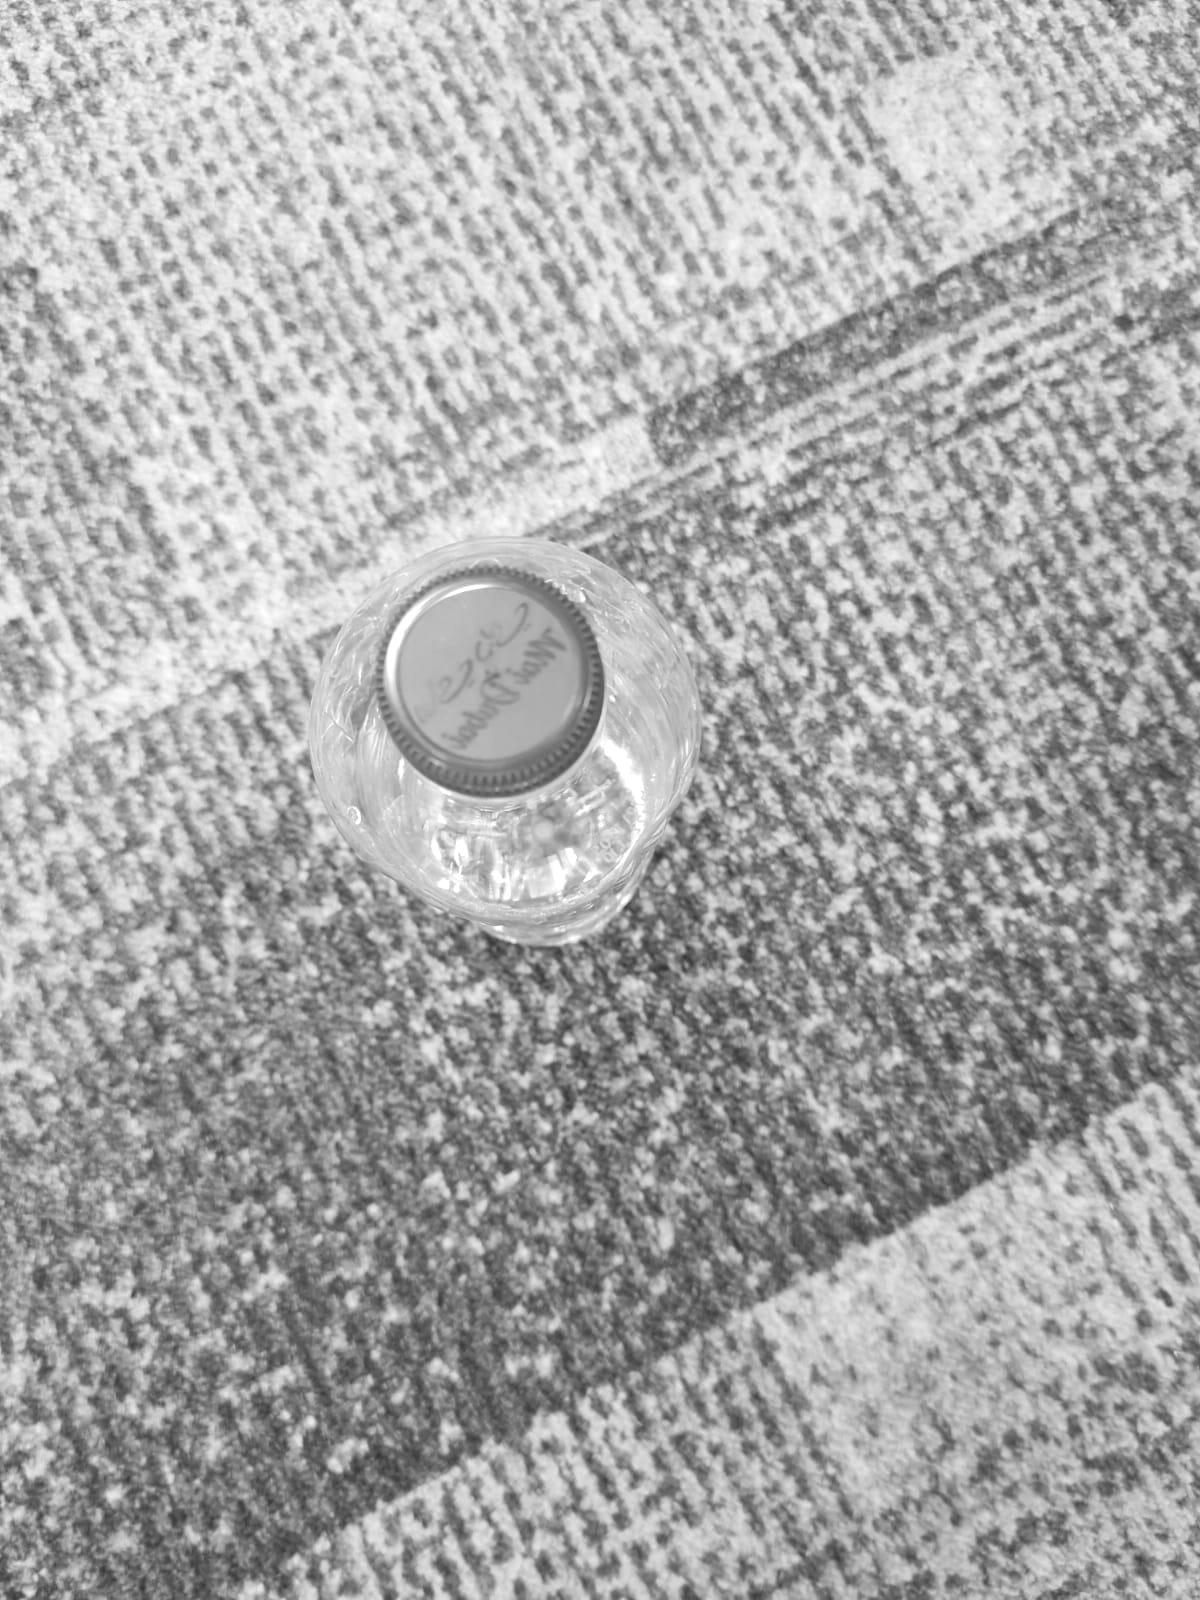bottle: (276, 506, 725, 957)
